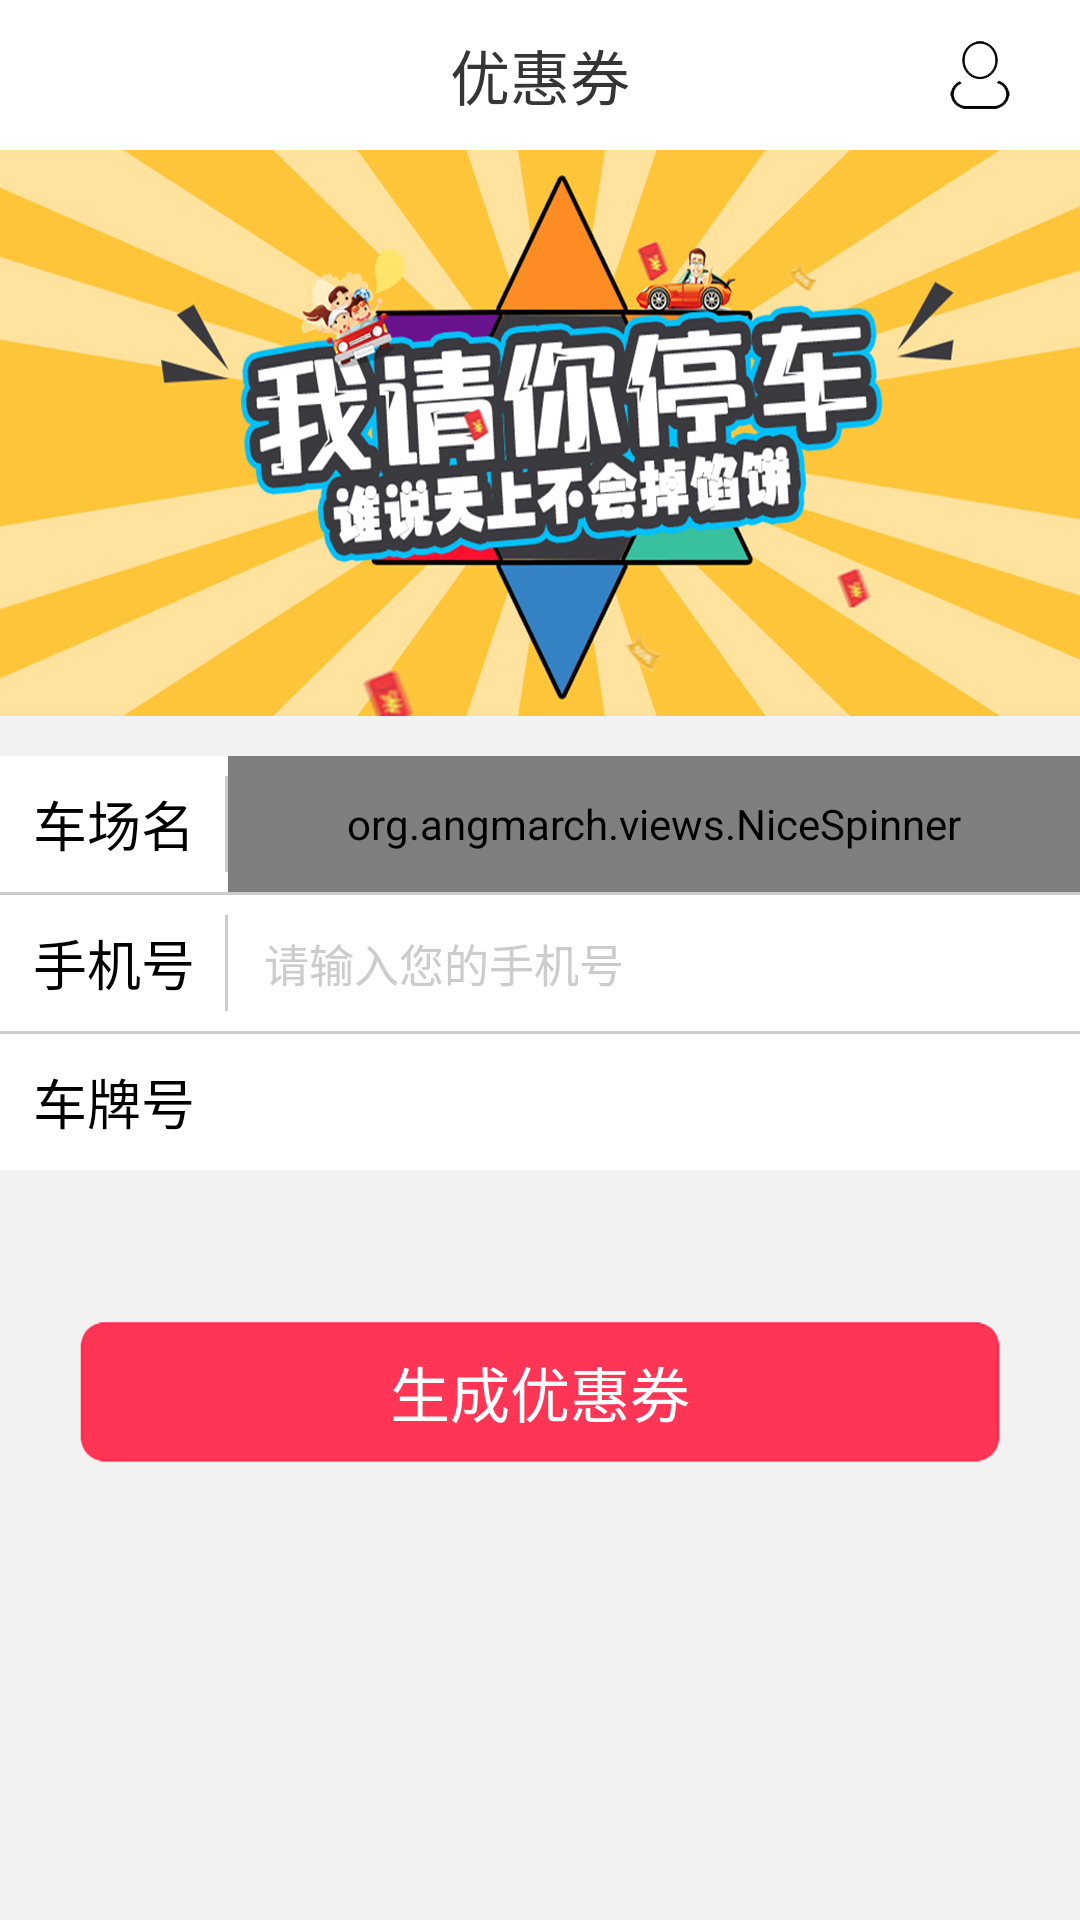

Named icons in this screenshot (1080px×1920px) and their bounding boxes, (x1, y1, x2, y2):
gerenzhongxin: (950, 41, 1010, 109)
